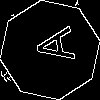A: (25, 25, 75, 67)
